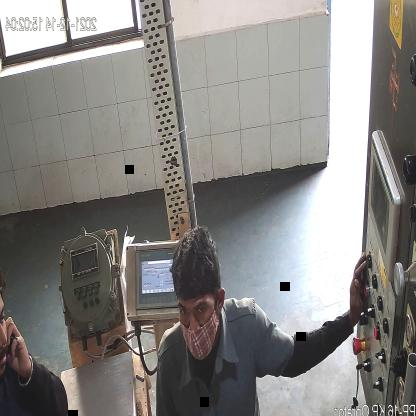no_goggles: (176, 298, 214, 325)
